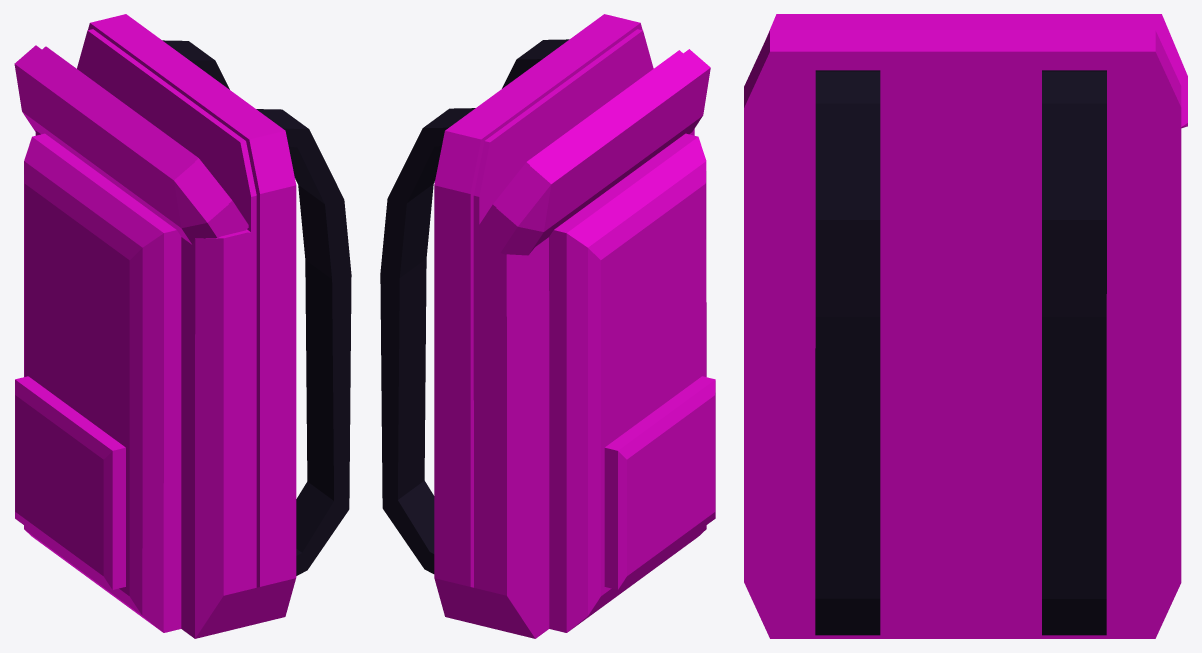
The model's file is mochila.fbx.
The picture shows the model from 3 angles, left to right: view 1: azimuth 30°, elevation 25°; view 2: azimuth 150°, elevation 25°; view 3: azimuth 270°, elevation 25°; orthographic projection. The views are drawn at different scales.
Parts seen in each view (by area): view 1: Cubo.018; view 2: Cubo.018; view 3: Cubo.018.
Boxes of the visible parts, x1=… form: Cubo.018: x1=14, y1=14, x2=351, y2=638; Cubo.018: x1=380, y1=14, x2=715, y2=638; Cubo.018: x1=744, y1=14, x2=1187, y2=638.
Bounding box in the file's own units: 39.36 × 79.15 × 54.16.
